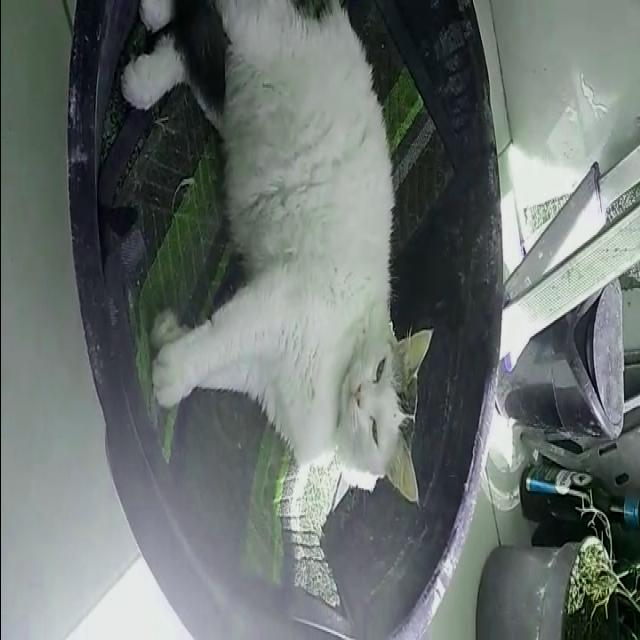Simba: (101, 10, 460, 540)
